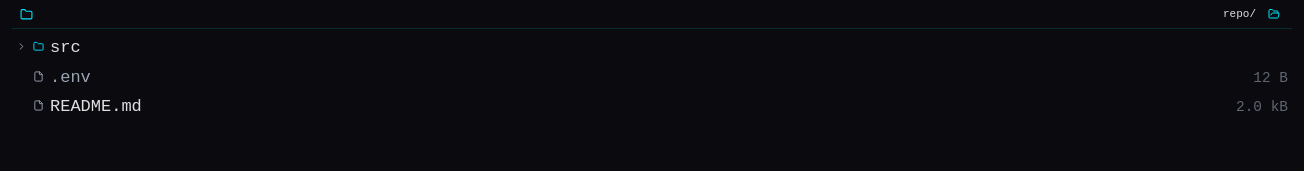
it: what a path can be opened as › opens a new terminal in the directory itself
Right-click the button "src" at (65,48), box [12,33,1292,62]
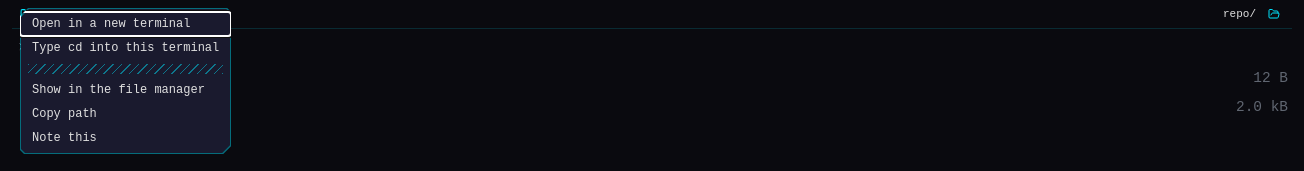
Click the menu item "Open in a new terminal" at (126,24), box [20,12,231,36]
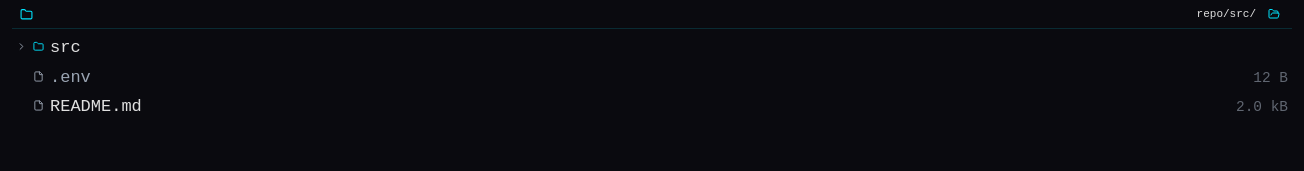
Result: the text "/repo/src" is shown at [1197,8,1256,20]
